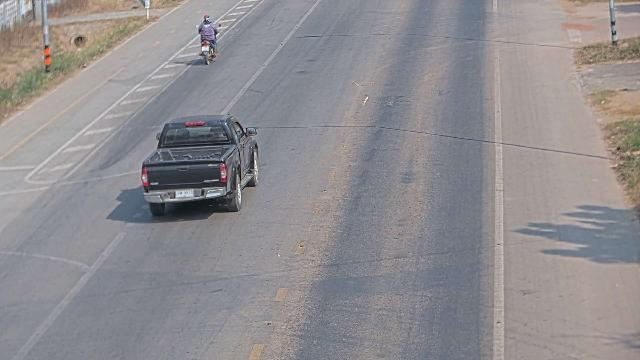pickup-truck: (140, 113, 259, 216)
